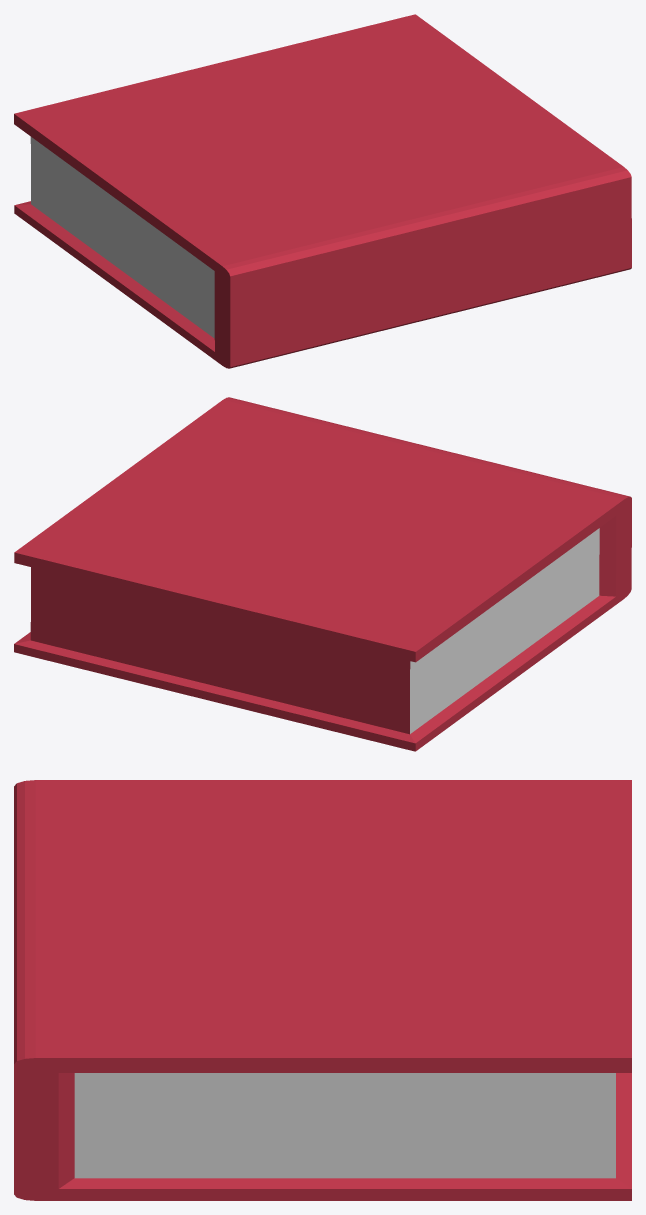
File: Prop_Biblioteca_Libro2.fbx
The picture shows the model from 3 angles, top to bottom: view 1: azimuth 30°, elevation 25°; view 2: azimuth 150°, elevation 25°; view 3: azimuth 270°, elevation 25°; orthographic projection. The views are drawn at different scales.
Parts seen in each view (by area): view 1: Cube.013; view 2: Cube.013; view 3: Cube.013.
Boxes of the visible parts, <box> form: Cube.013: <box>14,14,631,368</box>; Cube.013: <box>14,397,631,751</box>; Cube.013: <box>14,780,631,1200</box>.
Size of the model in its own units: 439 by 106 by 409.
